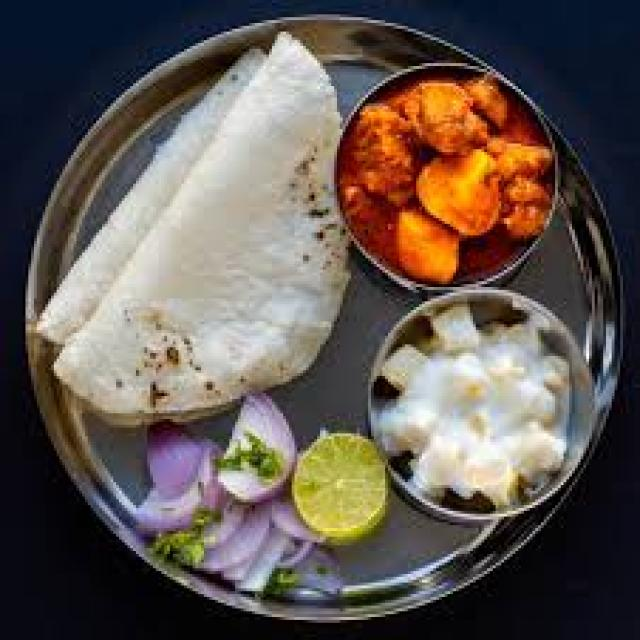RICE BHAKRI: (51, 32, 348, 413)
